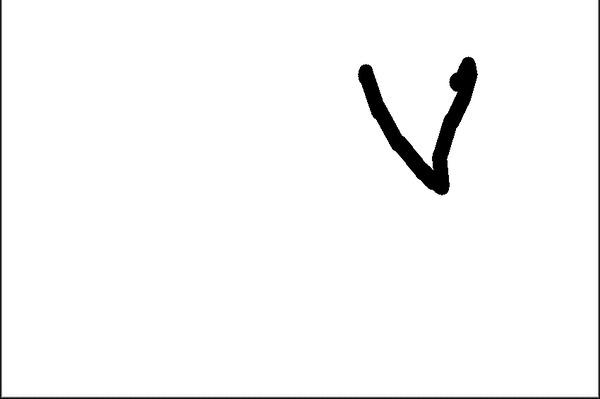V: (353, 43, 491, 198)
